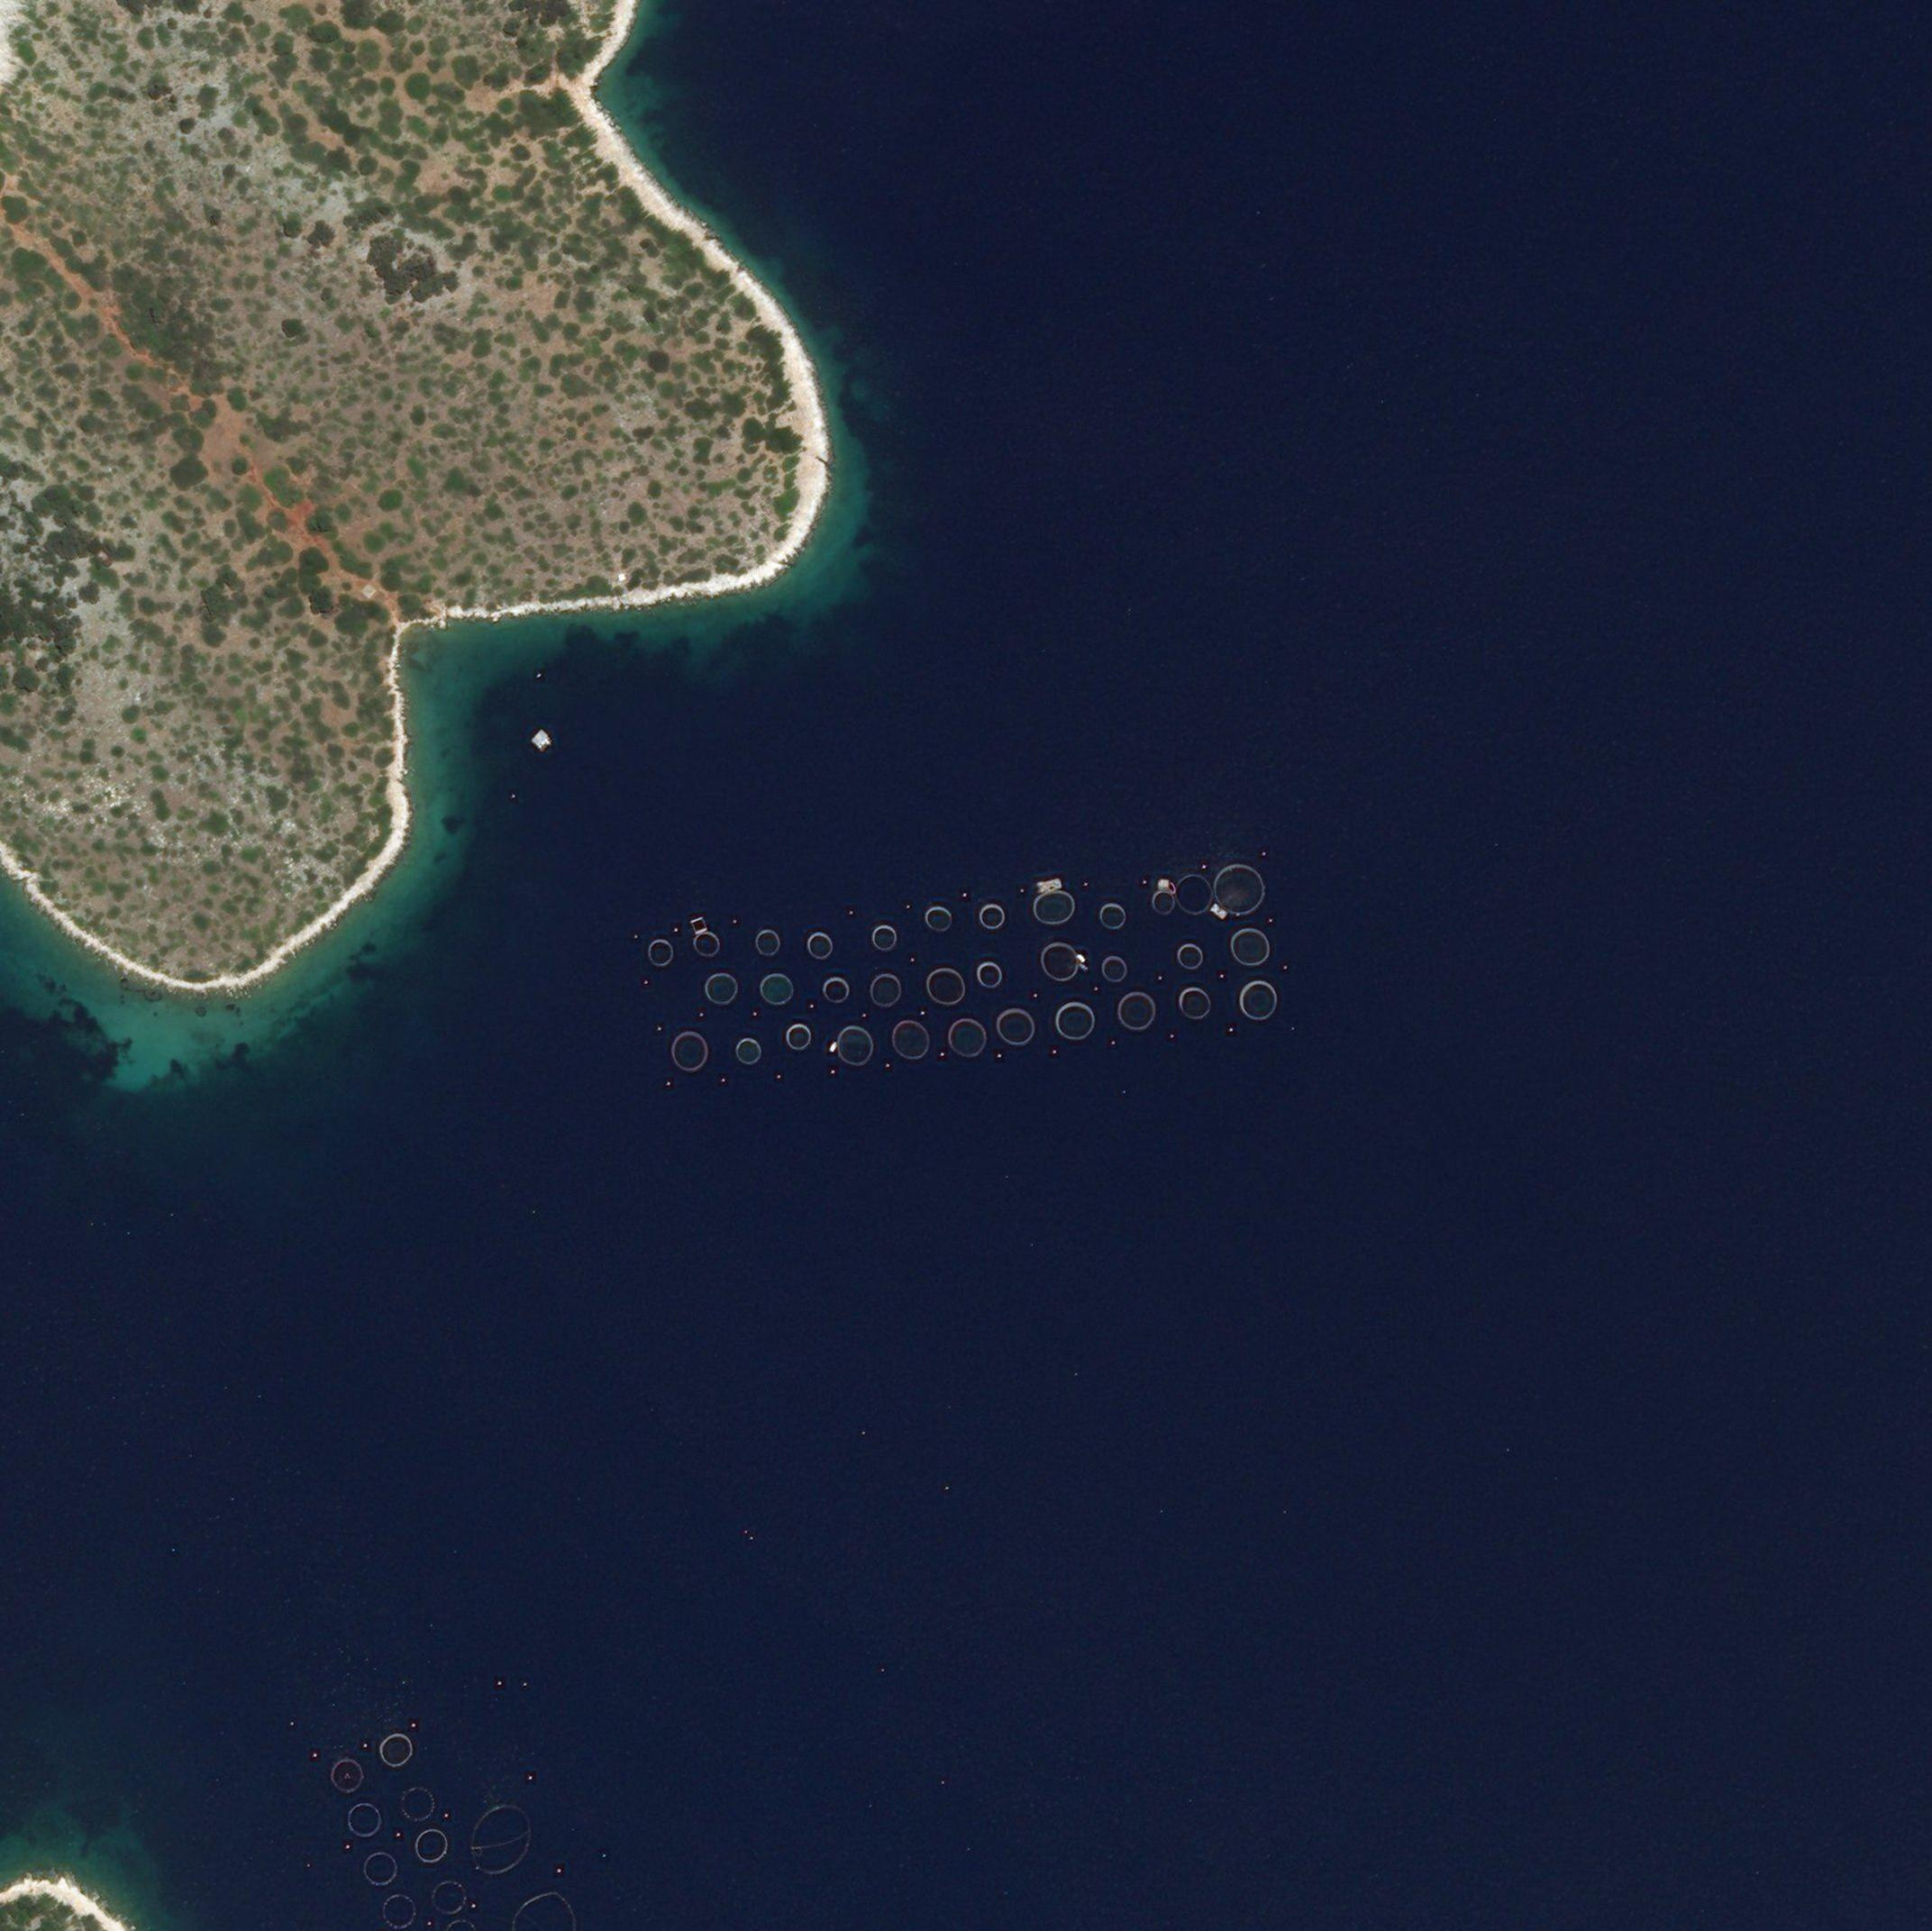c: (468, 1804, 534, 1874), (670, 1029, 711, 1072), (1117, 990, 1156, 1033), (1228, 927, 1271, 965), (949, 1017, 988, 1057), (1239, 980, 1278, 1020), (926, 967, 965, 1006), (997, 1008, 1036, 1047), (1039, 943, 1078, 981), (1053, 1003, 1094, 1040), (838, 1026, 875, 1065), (893, 1020, 930, 1059), (1175, 874, 1211, 914), (1032, 891, 1076, 923), (399, 1786, 435, 1821), (362, 1851, 398, 1887), (704, 973, 739, 1006), (378, 1733, 414, 1767), (331, 1758, 364, 1793), (348, 1802, 382, 1837), (415, 1828, 449, 1862), (433, 1880, 467, 1913), (760, 973, 795, 1004), (870, 973, 901, 1008), (1177, 987, 1213, 1019), (645, 935, 675, 967), (734, 1038, 762, 1066), (822, 976, 850, 1004), (870, 923, 898, 951), (1098, 904, 1128, 930), (755, 928, 781, 957), (806, 932, 833, 960), (1175, 943, 1204, 969), (1147, 889, 1175, 916), (976, 960, 1002, 987), (979, 904, 1006, 930), (787, 1022, 811, 1050), (926, 907, 955, 932), (1101, 957, 1126, 981)
